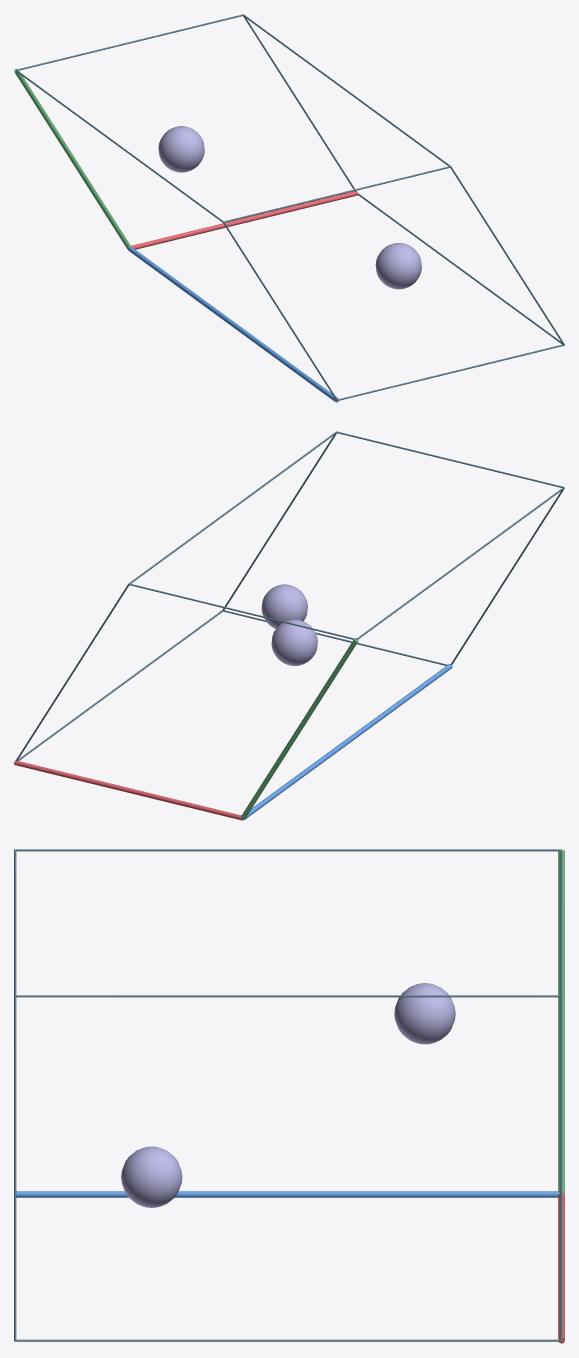
Rendered from nguyen-to-tb.glb.
3 views of the same model, one above another, from view 1: azimuth 30°, elevation 25°; view 2: azimuth 150°, elevation 25°; view 3: azimuth 270°, elevation 25° (orthographic). The views are drawn at different scales.
Visible parts, largest first — view 1: Ô mạng và các trục a, b, c, Tb · Tb · 1 (×2); view 2: Ô mạng và các trục a, b, c, Tb · Tb · 1 (×2); view 3: Ô mạng và các trục a, b, c, Tb · Tb · 1 (×2).
Part boxes in pixels (left/top/right/bottom): Ô mạng và các trục a, b, c: left=14, top=14, right=564, bottom=402; Tb · Tb · 1 (×2): left=158, top=126, right=421, bottom=289; Ô mạng và các trục a, b, c: left=14, top=431, right=564, bottom=820; Tb · Tb · 1 (×2): left=261, top=584, right=317, bottom=665; Ô mạng và các trục a, b, c: left=14, top=849, right=564, bottom=1343; Tb · Tb · 1 (×2): left=121, top=983, right=455, bottom=1207.
Bounding box in the file's own units: 5.44 × 3.17 × 5.74.
